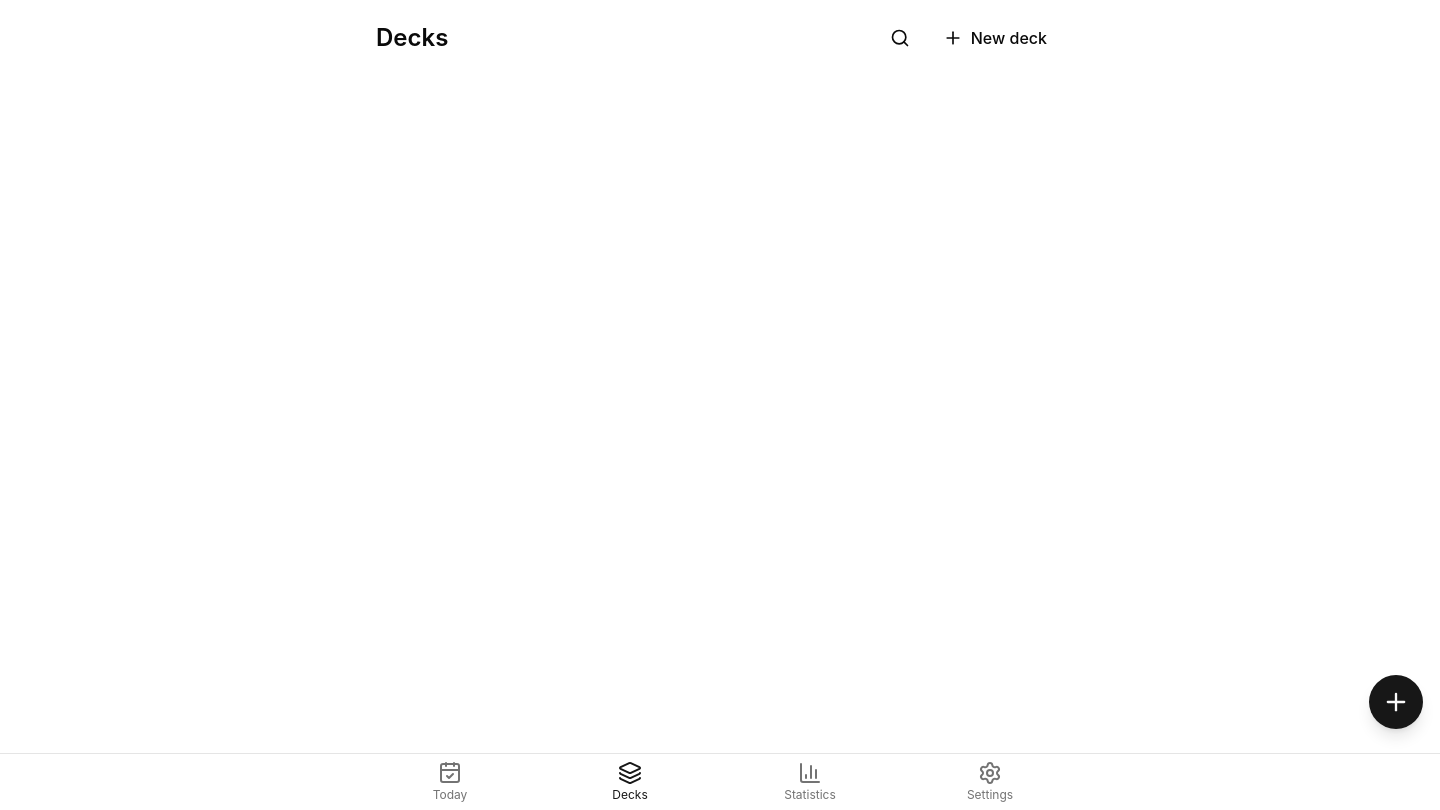
Test: decks list › shows a validation error for an empty name
This screenshot has width=1440, height=810.
Click the button "New deck" at (995, 38), box [926,16,1064,60]
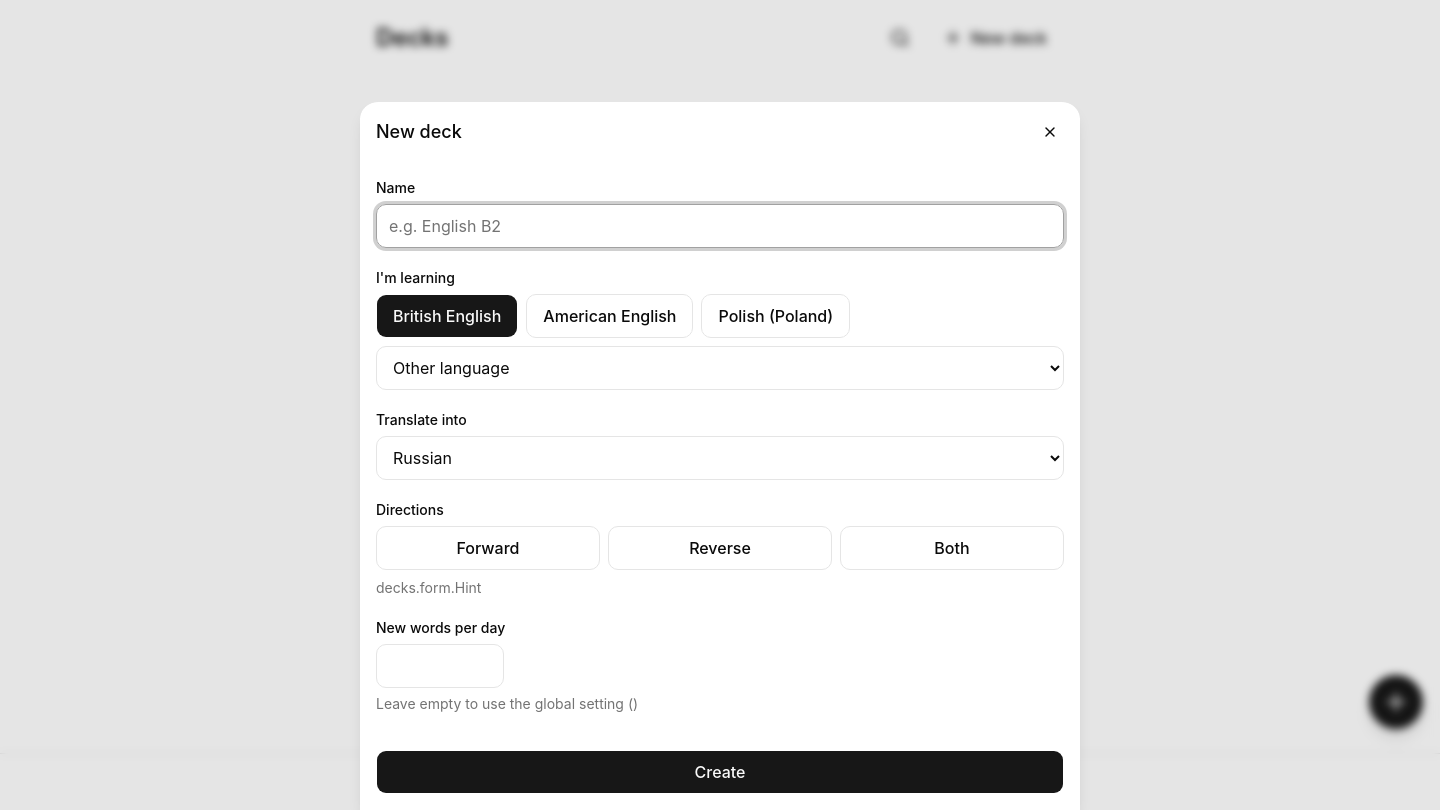
Click the button "Create" at (720, 772), box [376,750,1064,794]
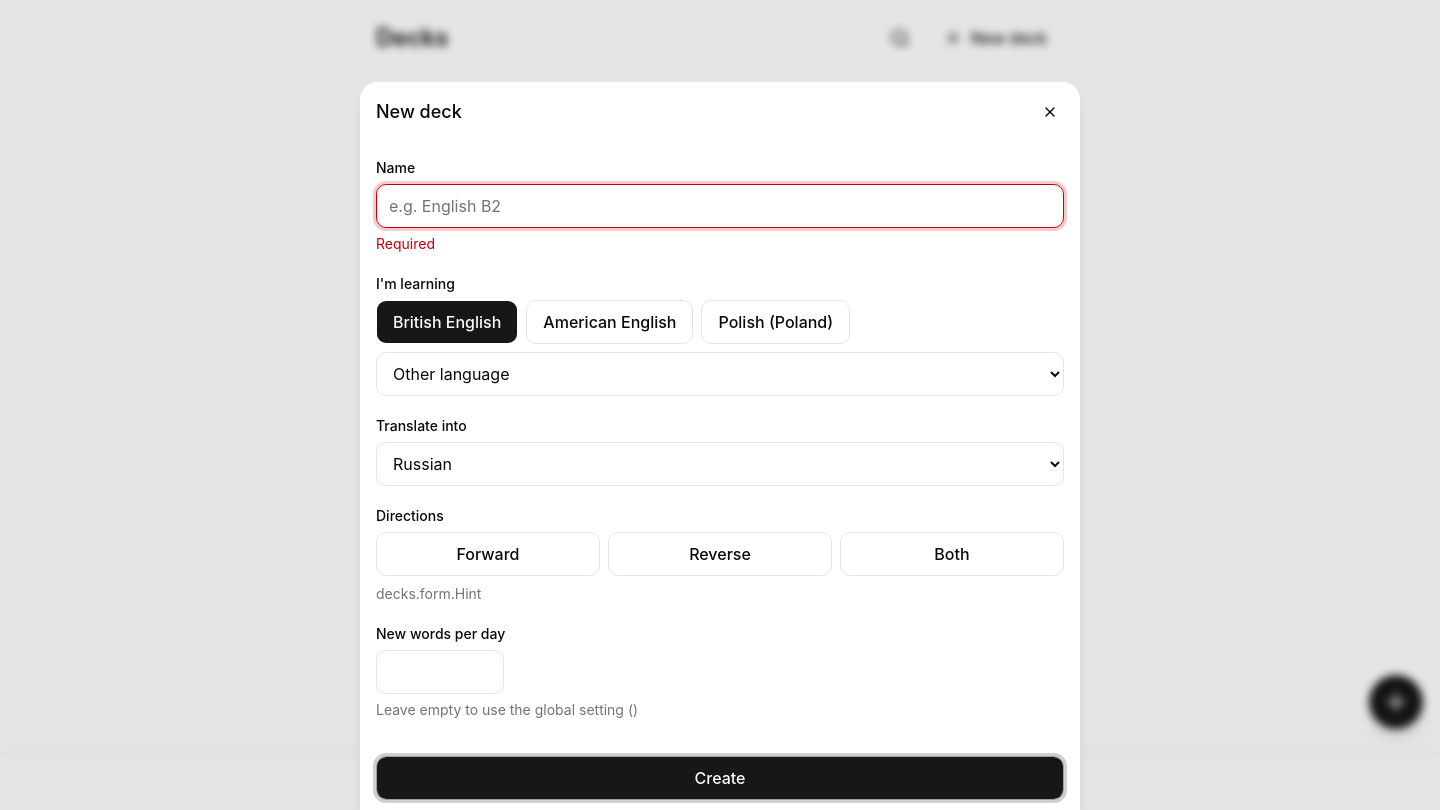
Expected: the text "Required" is shown, [376,235,435,252]
